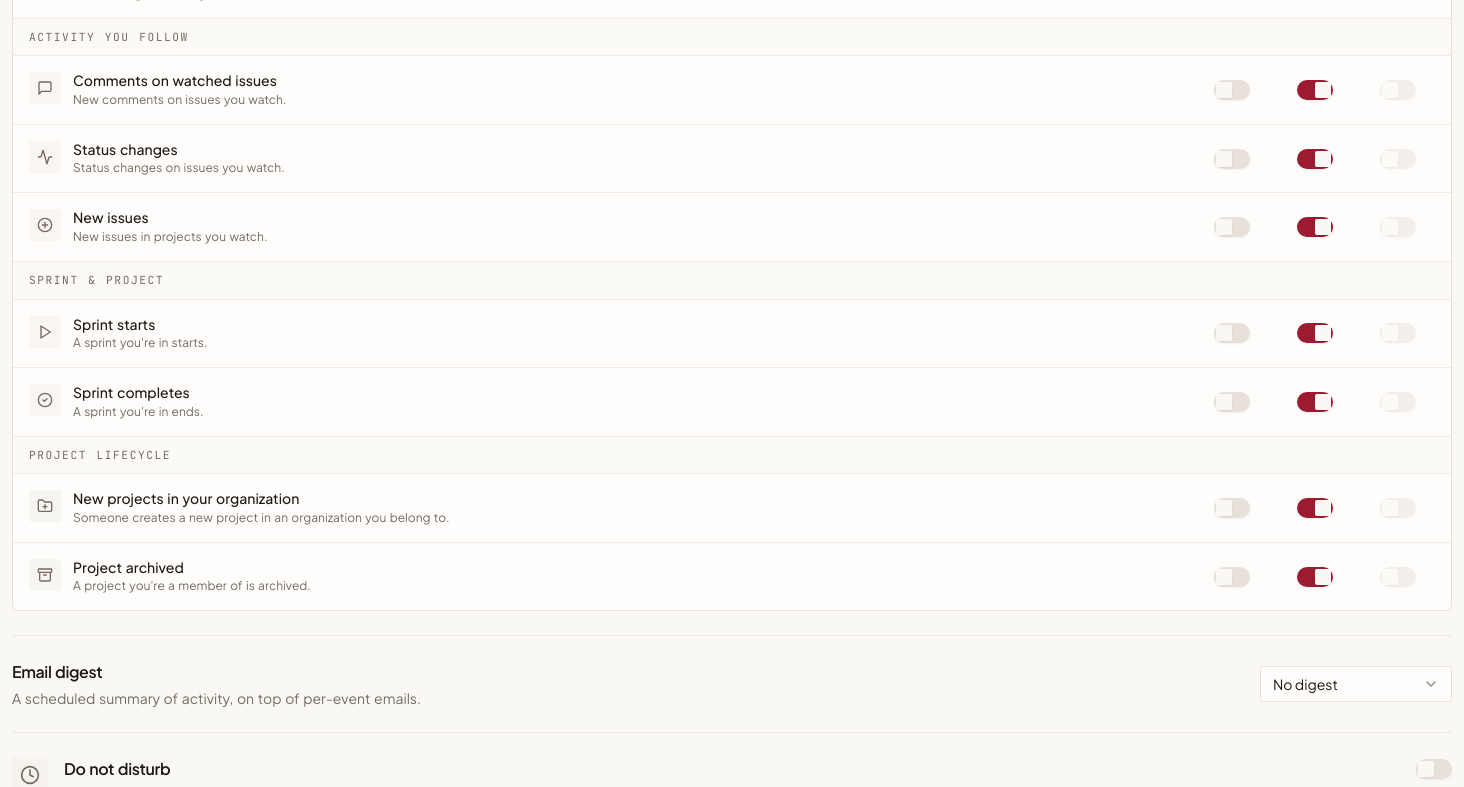
Test: NotificationPreferences › updating digest to daily posts digestFrequency:"daily" and reveals the 08:00 helper note
(page scrolled)
Click the dropdown: {"x": 1356, "y": 684} [1260,666,1452,702]
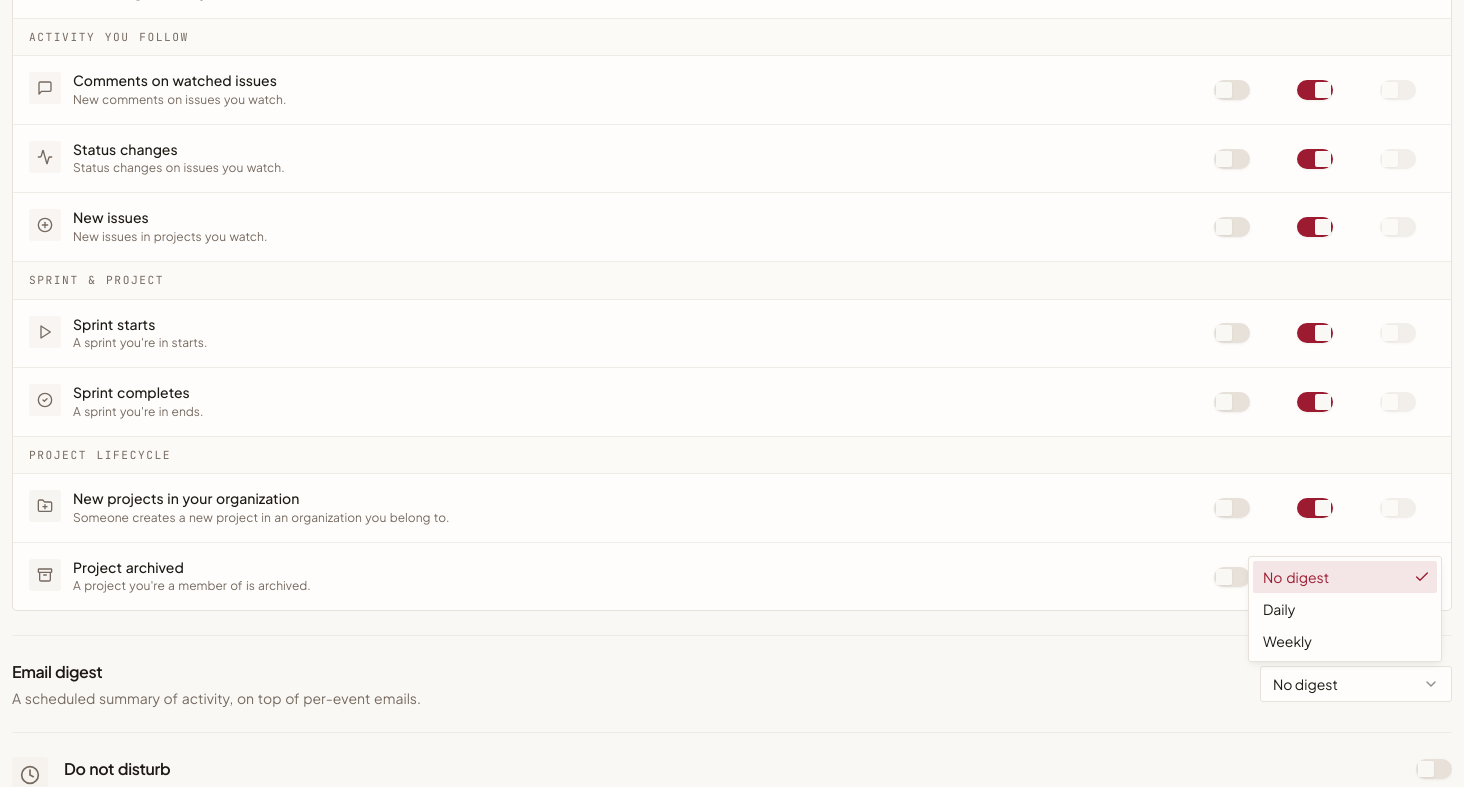
Click the option "Daily": {"x": 1279, "y": 609} [1263,600,1295,618]
Wait 400 ms
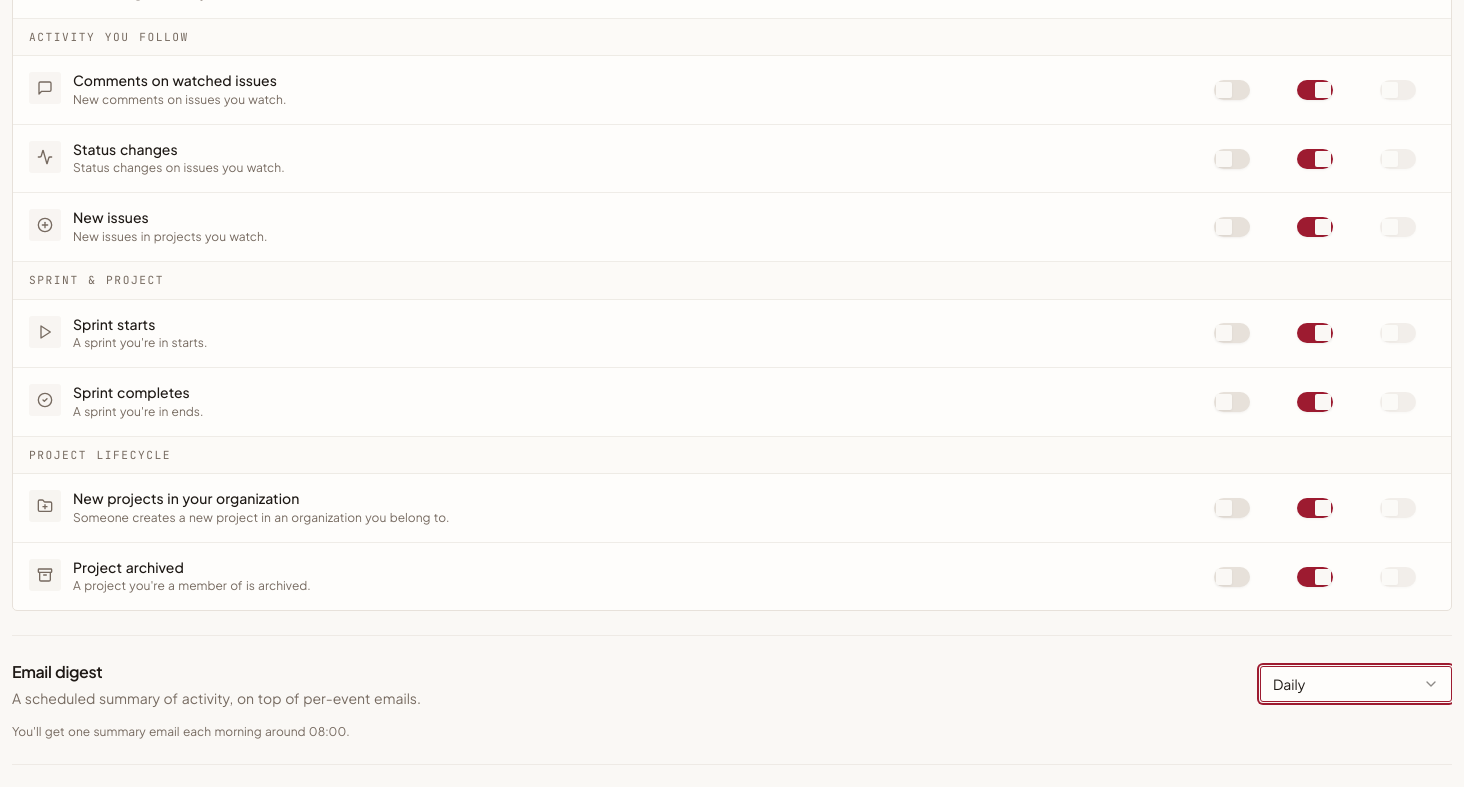
Expected: the text "You'll get one summary email each morning around 08:00." is shown, [12,724,350,739]
